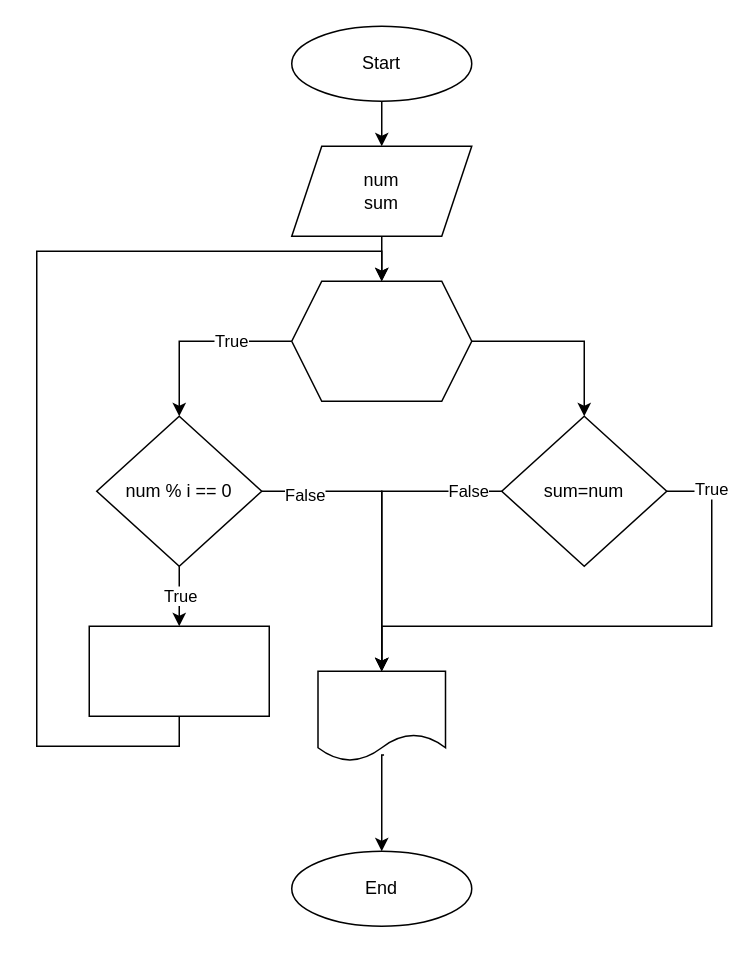
The diagram is 755 pixels wide and 953 high, and some of its shapes have lost their labels. Each missing label, with the centre of its shape:
"int i = 1 i < num i++" belongs at point 381,340.
"isPerfect" belongs at point 381,715.
"sum+=i" belongs at point 178,670.
